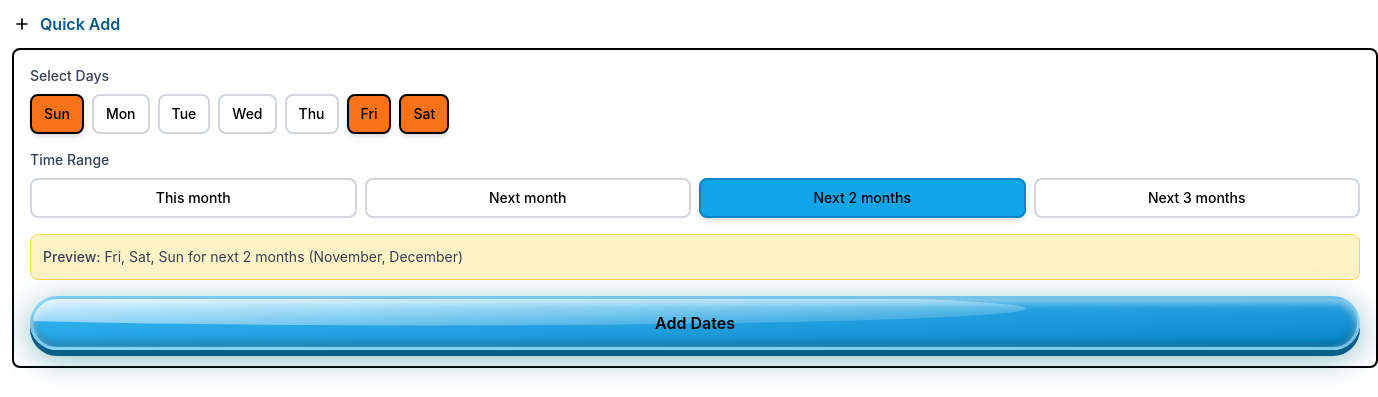
Test: QuickAddBuilder › should update preview when time range is changed
Change to "This month"
Click the button "This month" at [193, 198], box top-left (30, 178), bottom-right (356, 218)
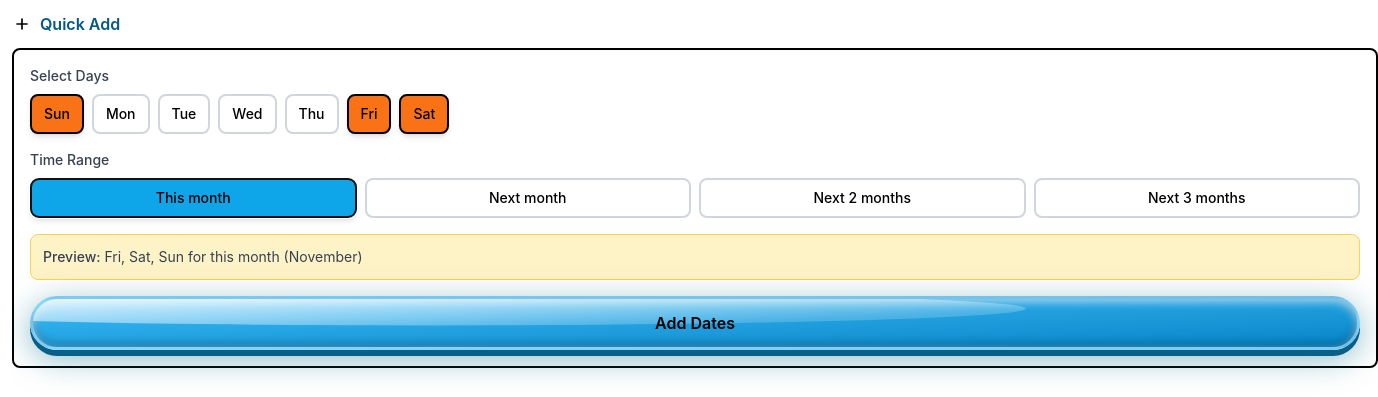
Result: the text "Preview: Fri, Sat, Sun for this month (November)" is shown at top-left (43, 248), bottom-right (362, 265)
